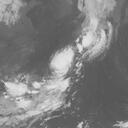cyclone: (50, 26, 107, 81)
